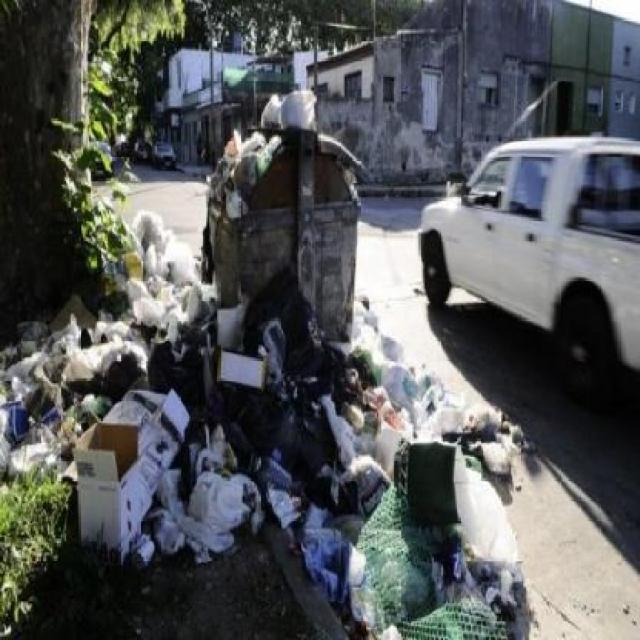garbage: (18, 289, 540, 638), (111, 199, 210, 326), (208, 123, 266, 202), (257, 82, 312, 138)
